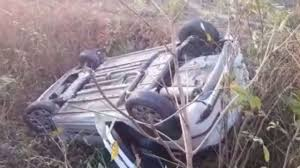accident: (20, 51, 247, 158)
